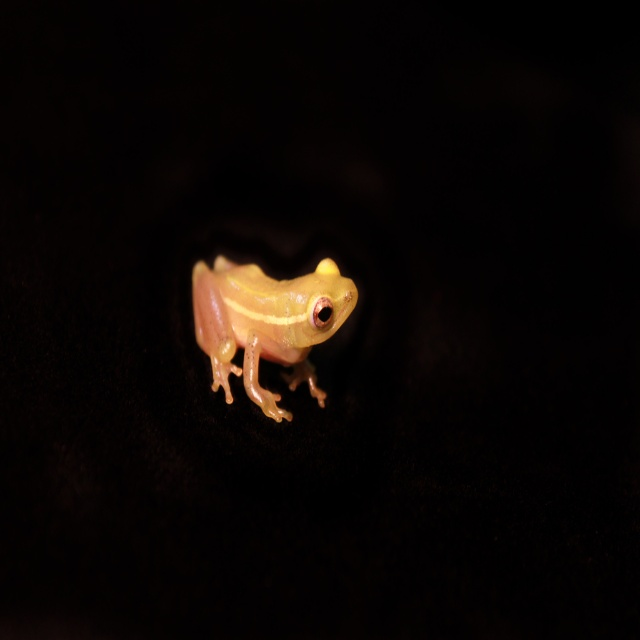Frog: (195, 257, 356, 427)
